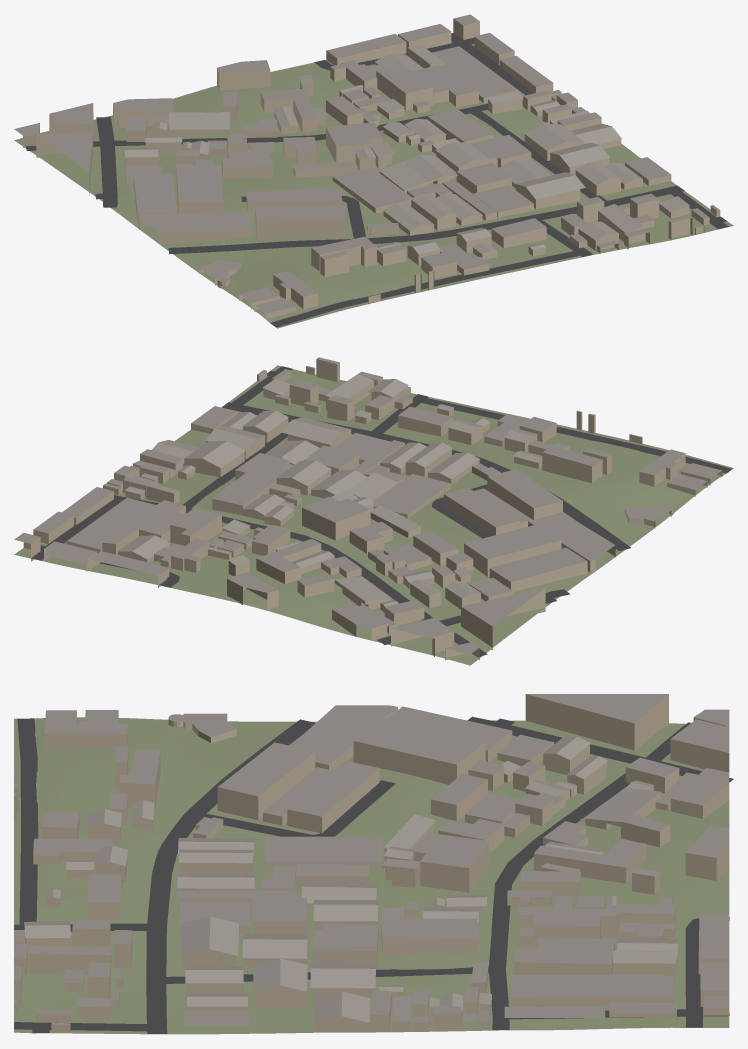
3 renders of one model, top to bottom at view 1: azimuth 30°, elevation 25°; view 2: azimuth 150°, elevation 25°; view 3: azimuth 270°, elevation 25°, orthographic. The views are drawn at different scales.
Visible parts, largest first — view 1: roofs, walls, ground, sheetRoofs, road; view 2: roofs, walls, ground, sheetRoofs, road; view 3: roofs, ground, walls, sheetRoofs, road.
Part boxes in pixels (<box>): roofs: <box>14,14,719,313</box>; walls: <box>23,19,720,320</box>; ground: <box>14,41,733,328</box>; sheetRoofs: <box>124,46,689,254</box>; road: <box>26,33,728,327</box>; roofs: <box>14,357,721,654</box>; walls: <box>23,359,722,660</box>; ground: <box>14,365,733,665</box>; sheetRoofs: <box>101,374,542,606</box>; road: <box>30,366,731,657</box>; roofs: <box>14,694,729,1025</box>; ground: <box>14,717,729,1034</box>; walls: <box>14,694,729,1032</box>; sheetRoofs: <box>24,736,678,1022</box>; road: <box>14,716,733,1033</box>.
Size of the model in its own units: 253 by 16.21 by 252.
